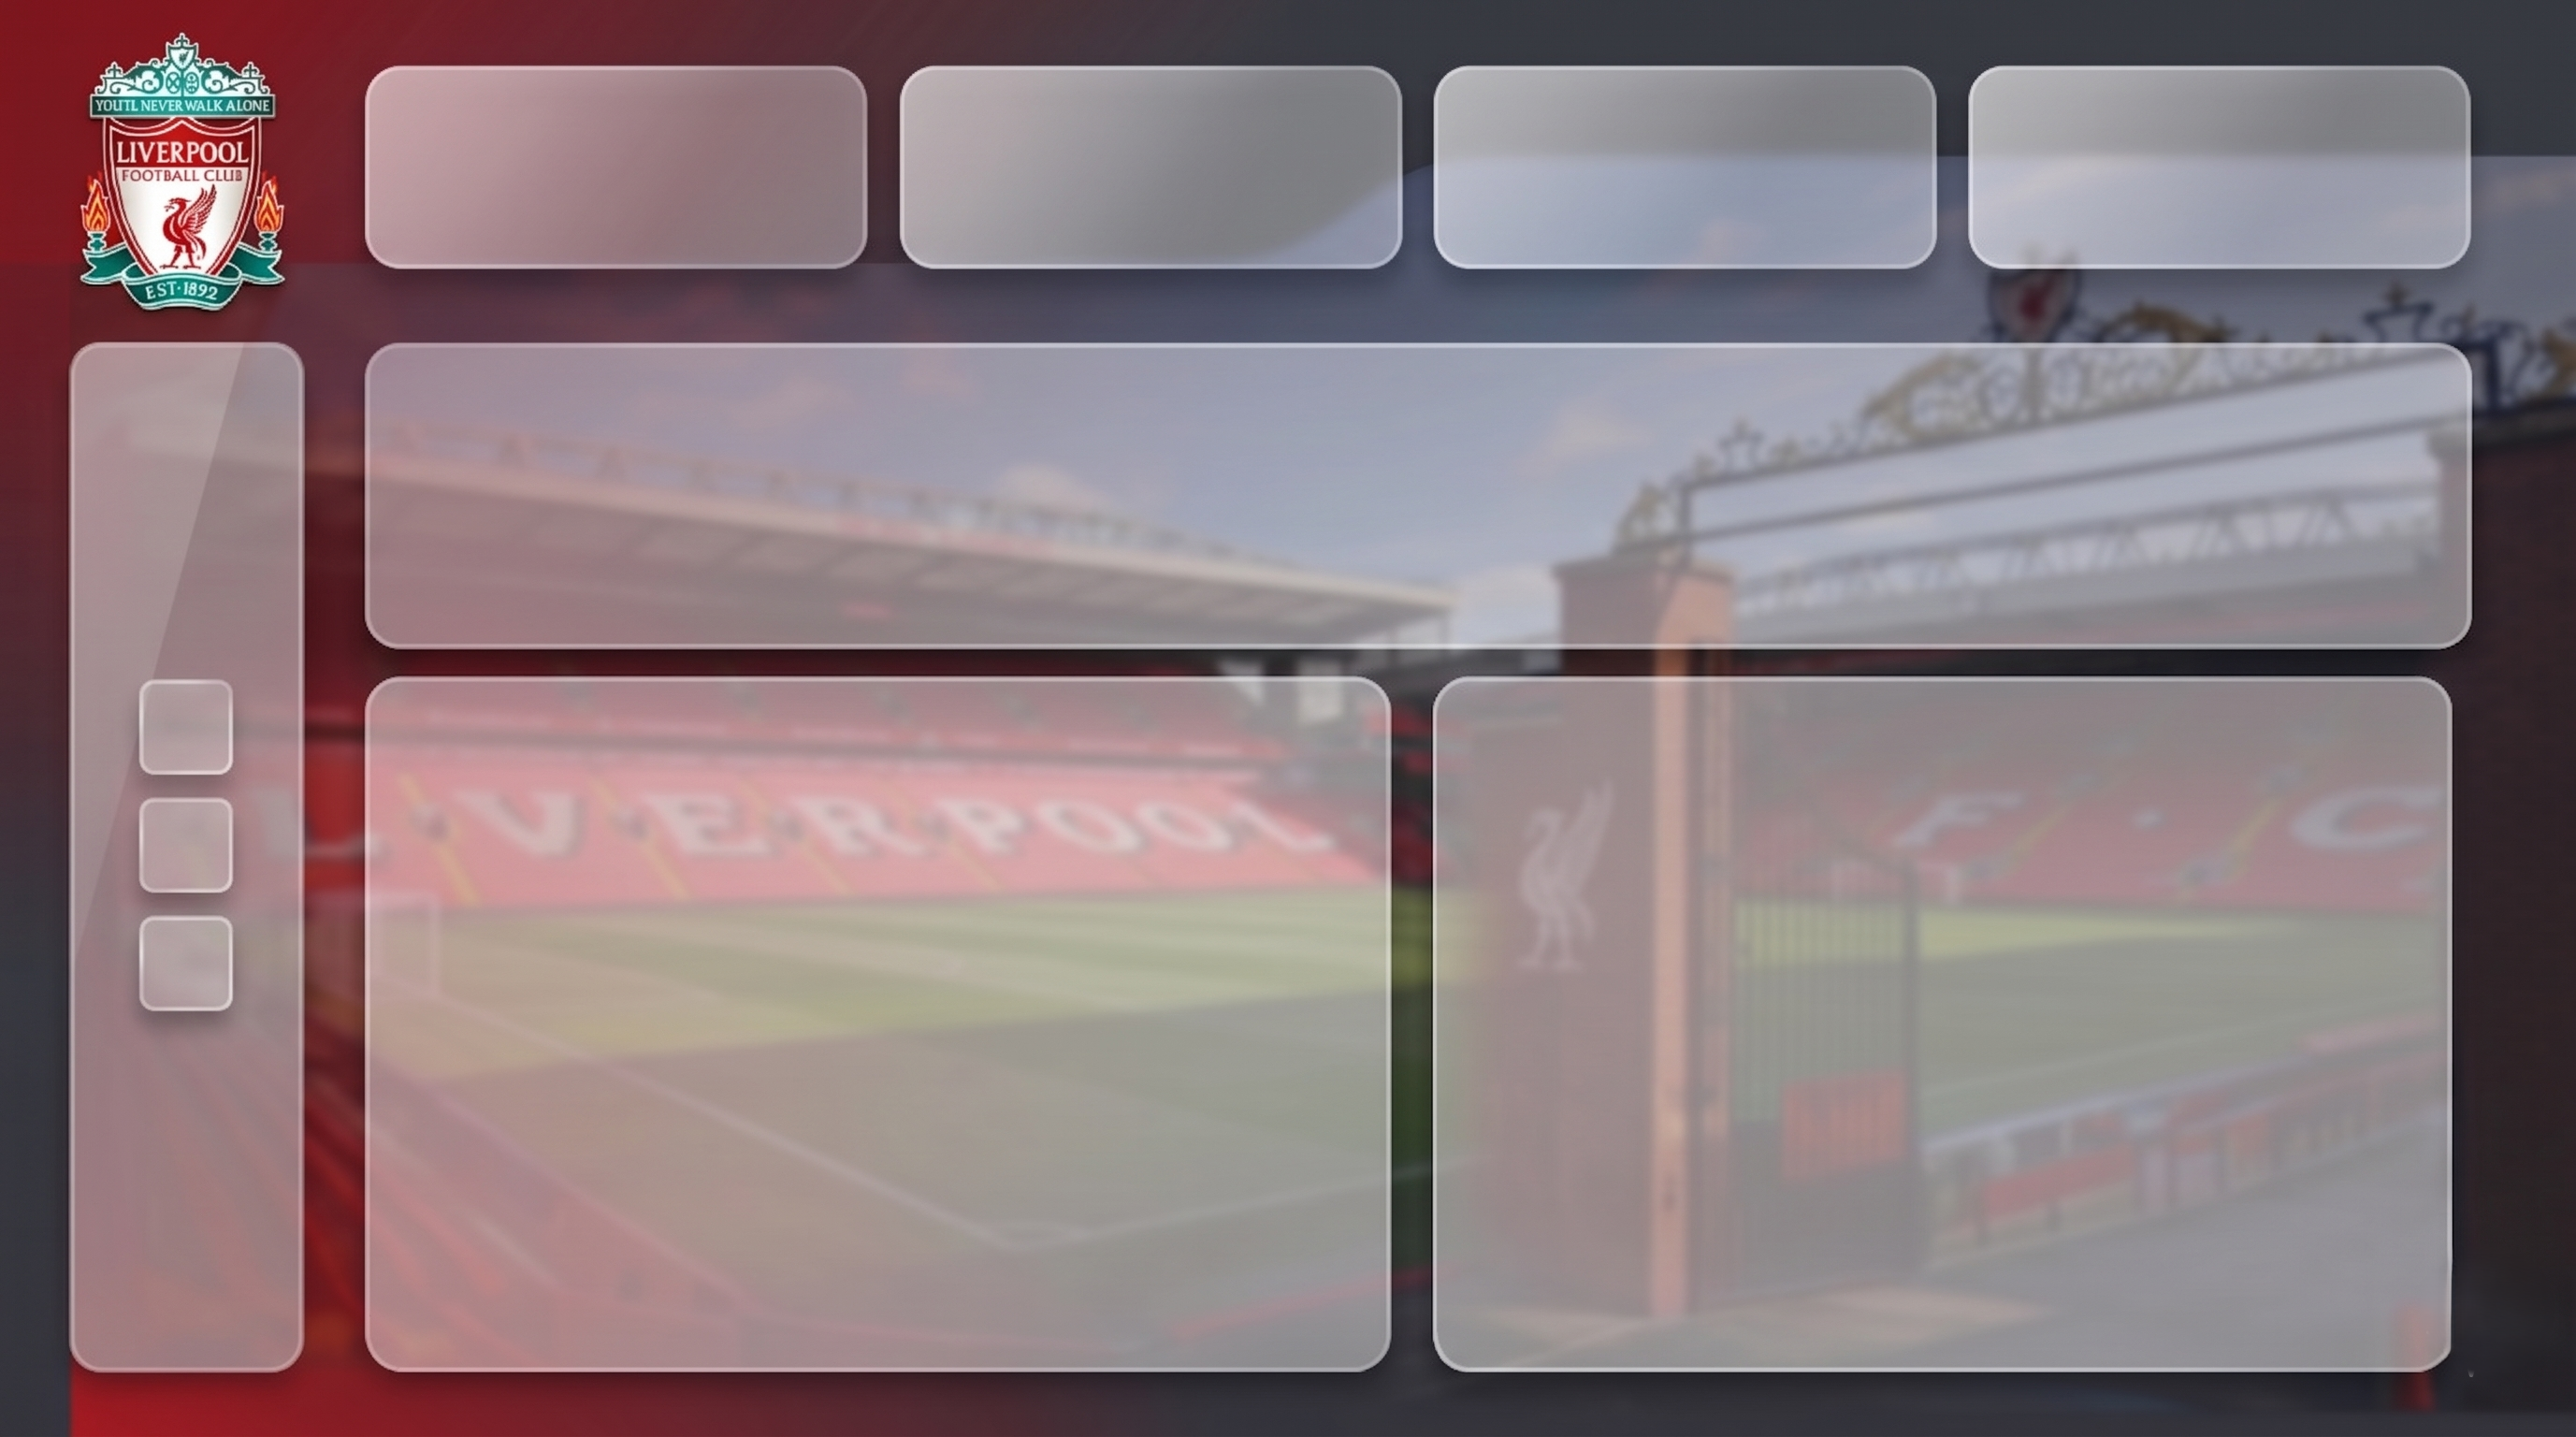

The page's visual inventory and layout, read from the dashboard file:
{"tool":"powerbi","page":{"name":"Executive Summary","canvas":[1280,720],"ordinal":0},"visuals":[{"type":"donutChart","fields":{"Category":["Dim_Stores_v2.StoreType"],"Y":["Sum(Fact_Sales_v2.TotalAmount)"]},"box":[187.6,331.7,486.6,340.1],"z":0},{"type":"slicer","title":"Country","fields":{"Values":["Dim_Customers_v2.Country"]},"box":[31.9,511.7,125.9,89.3],"z":1000},{"type":"slicer","title":"Category","fields":{"Values":["Dim_Products_v2.Category"]},"box":[31.9,247.1,125.9,84.5],"z":2000},{"type":"card","fields":{"Values":["_Measures.Total Profit"]},"box":[472.1,30.6,192.5,111.5],"z":3000},{"type":"card","fields":{"Values":["_Measures.Total Units"]},"box":[744,30.6,177.2,111.5],"z":4000},{"type":"card","fields":{"Values":["_Measures.Total Revenue"]},"box":[212.4,30.6,177.2,108.5],"z":5000},{"type":"card","fields":{"Values":["_Measures.Total Customers"]},"box":[1012.9,30.6,192.5,108.5],"z":6000},{"type":"azureMap","fields":{"Category":["Dim_Customers_v2.Country"],"Size":["Sum(Fact_Sales_v2.TotalAmount)"]},"box":[711.8,331.7,509.6,353.5],"z":7000},{"type":"lineChart","fields":{"Y":["Sum(Fact_Sales_v2.TotalAmount)"],"Category":["Fact_Sales_v2.Date.Variation.Date Hierarchy.Quarter","Fact_Sales_v2.Date.Variation.Date Hierarchy.Month"]},"box":[187.6,168.3,1033.8,147.7],"z":8000},{"type":"actionButton","box":[71,459,45,41],"z":9000},{"type":"actionButton","box":[69,331,60,60],"z":10000},{"type":"actionButton","box":[65,391,59.3,59.3],"z":11000}]}

Visuals, with their boxes in screenshot pixels (x1, y1, x2, y2), scaled from the page's 1280x720 canvas onto the 2576x1437 screenshot:
donutChart - Dim_Stores_v2.StoreType x Sum(Fact_Sales_v2.TotalAmount): locate(378, 662, 1357, 1341)
"Country" slicer: locate(65, 1022, 318, 1199)
"Category" slicer: locate(65, 493, 318, 661)
card - _Measures.Total Profit: locate(950, 61, 1338, 283)
card - _Measures.Total Units: locate(1498, 61, 1854, 283)
card - _Measures.Total Revenue: locate(427, 61, 784, 278)
card - _Measures.Total Customers: locate(2038, 61, 2425, 278)
azureMap - Dim_Customers_v2.Country x Sum(Fact_Sales_v2.TotalAmount): locate(1432, 662, 2458, 1368)
lineChart - Sum(Fact_Sales_v2.TotalAmount) x Fact_Sales_v2.Date.Variation.Date Hierarchy.Quarter: locate(378, 336, 2458, 631)
actionButton: locate(143, 916, 234, 998)
actionButton: locate(138, 660, 260, 780)
actionButton: locate(131, 780, 250, 899)
